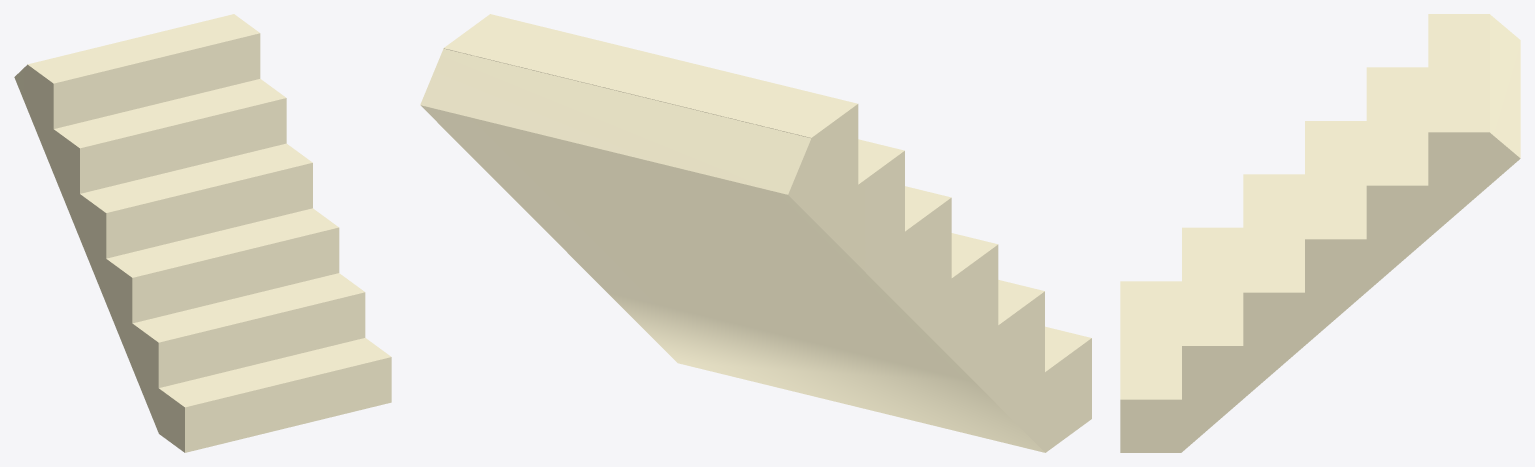
3 renders of one model, left to right at view 1: azimuth 30°, elevation 25°; view 2: azimuth 150°, elevation 25°; view 3: azimuth 270°, elevation 25°, orthographic. The views are drawn at different scales.
Visible parts, largest first — view 1: ArtDecoStairs.002; view 2: ArtDecoStairs.002; view 3: ArtDecoStairs.002.
Part boxes in pixels (bbox=[...]): ArtDecoStairs.002: bbox=[14, 14, 391, 452]; ArtDecoStairs.002: bbox=[420, 14, 1091, 452]; ArtDecoStairs.002: bbox=[1120, 14, 1520, 452].
Size of what is drawn, in the model's own units: 1.36 by 1.71 by 1.94.
Materials: 1 (1 with a texture image).
